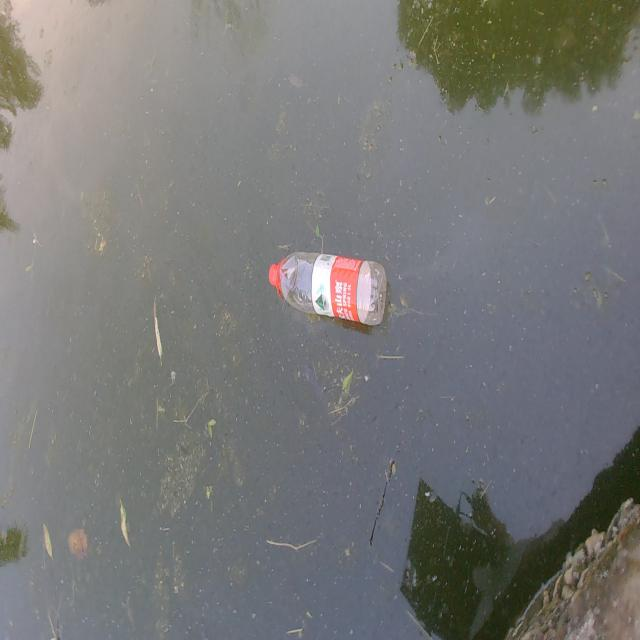Bottle: (265, 244, 391, 330)
